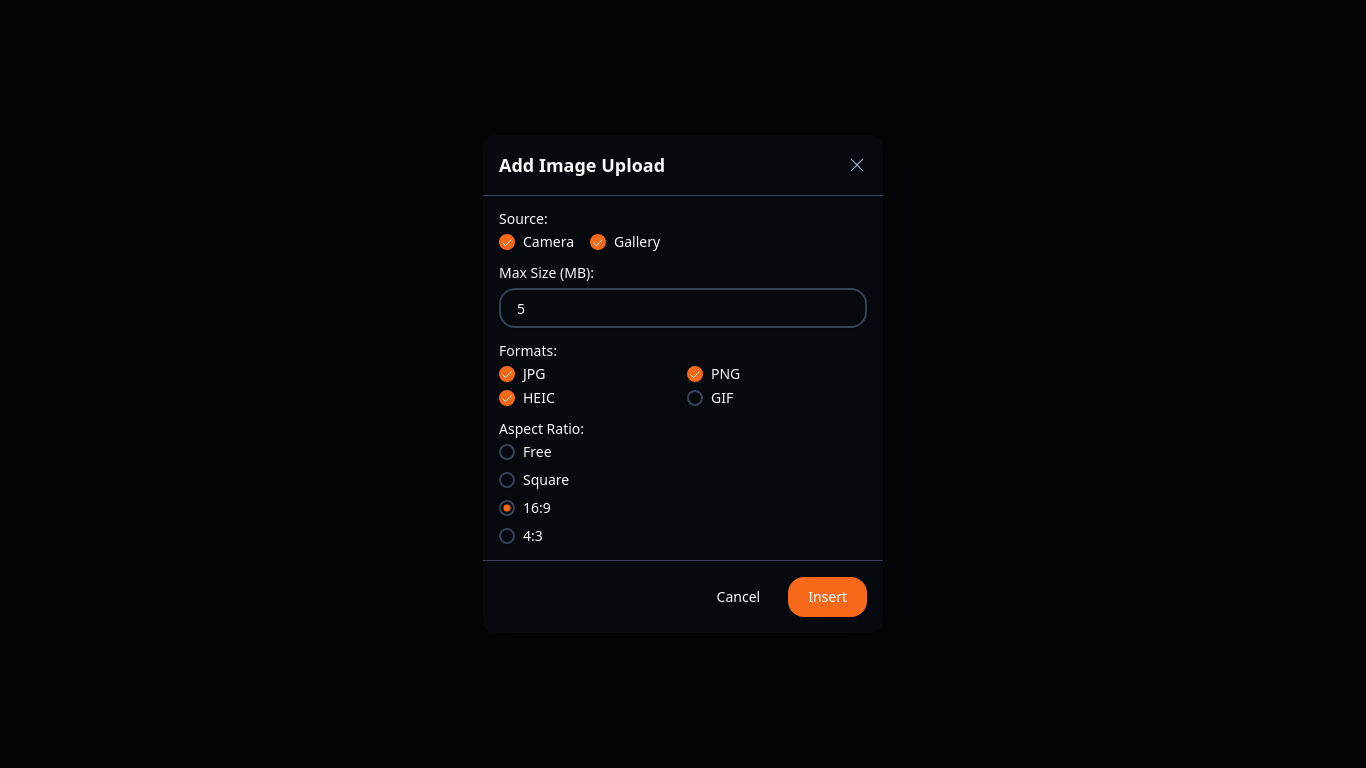
it: ImagePanel › Form Validation › should disable Insert button when no source selected
The image size is (1366, 768).
Expected: the button "Insert" is enabled, [788,577,867,617]
What coordinates should you click on to do the following:
click the checkbox named "Camera" next to "Camera"
I would click on:
 (507, 242)
Its box is [499,234,515,250].
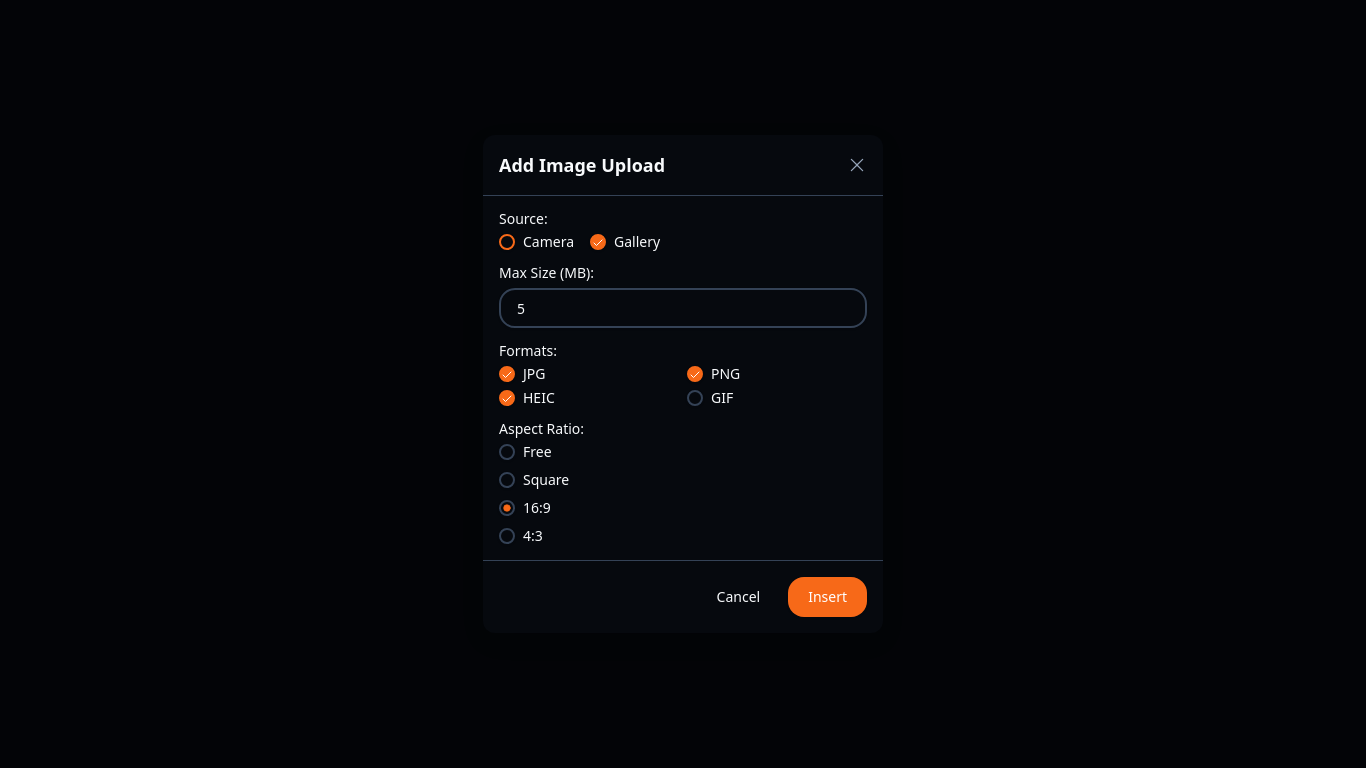
What coordinates should you click on to do the following:
click the checkbox named "Gallery" next to "Gallery"
I would click on:
 (598, 242)
Its box is [590,234,606,250].
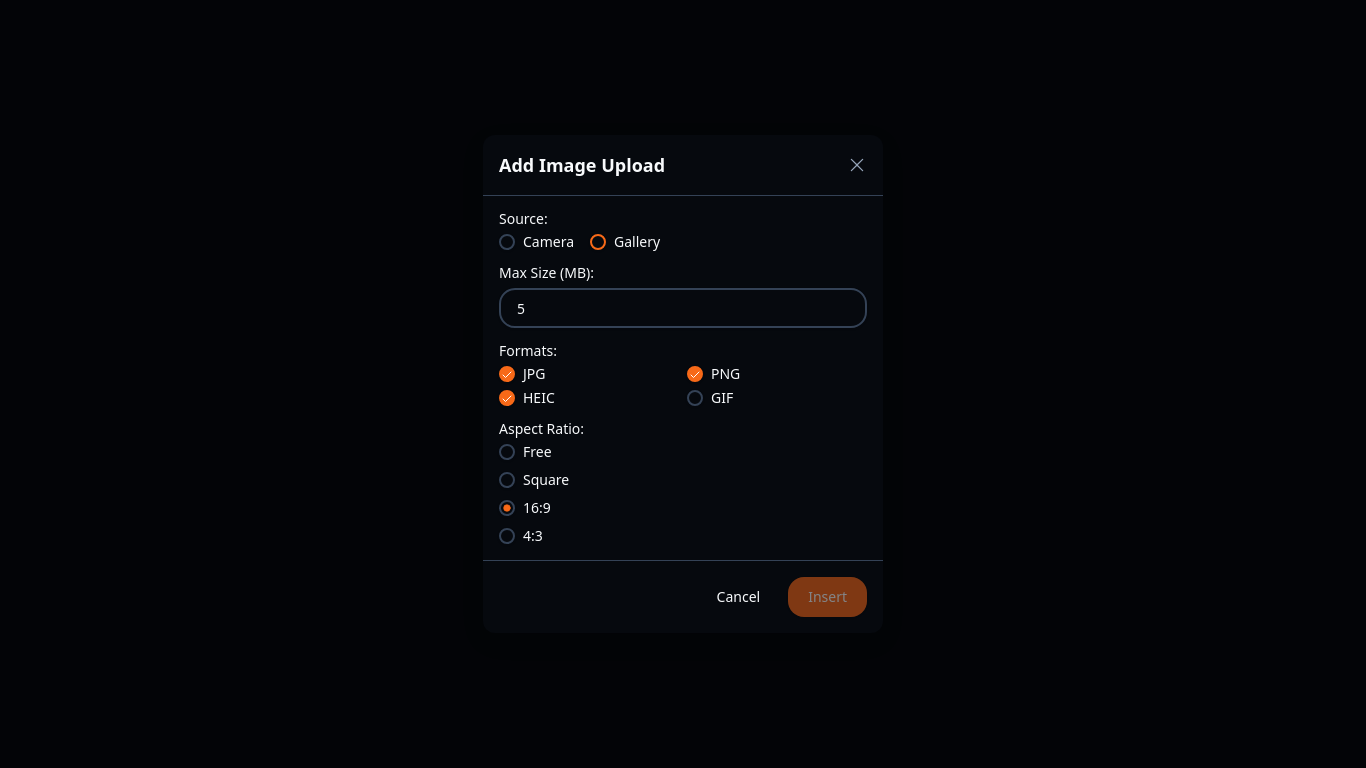
Result: the button "Insert" is disabled at [788,577,867,617]
